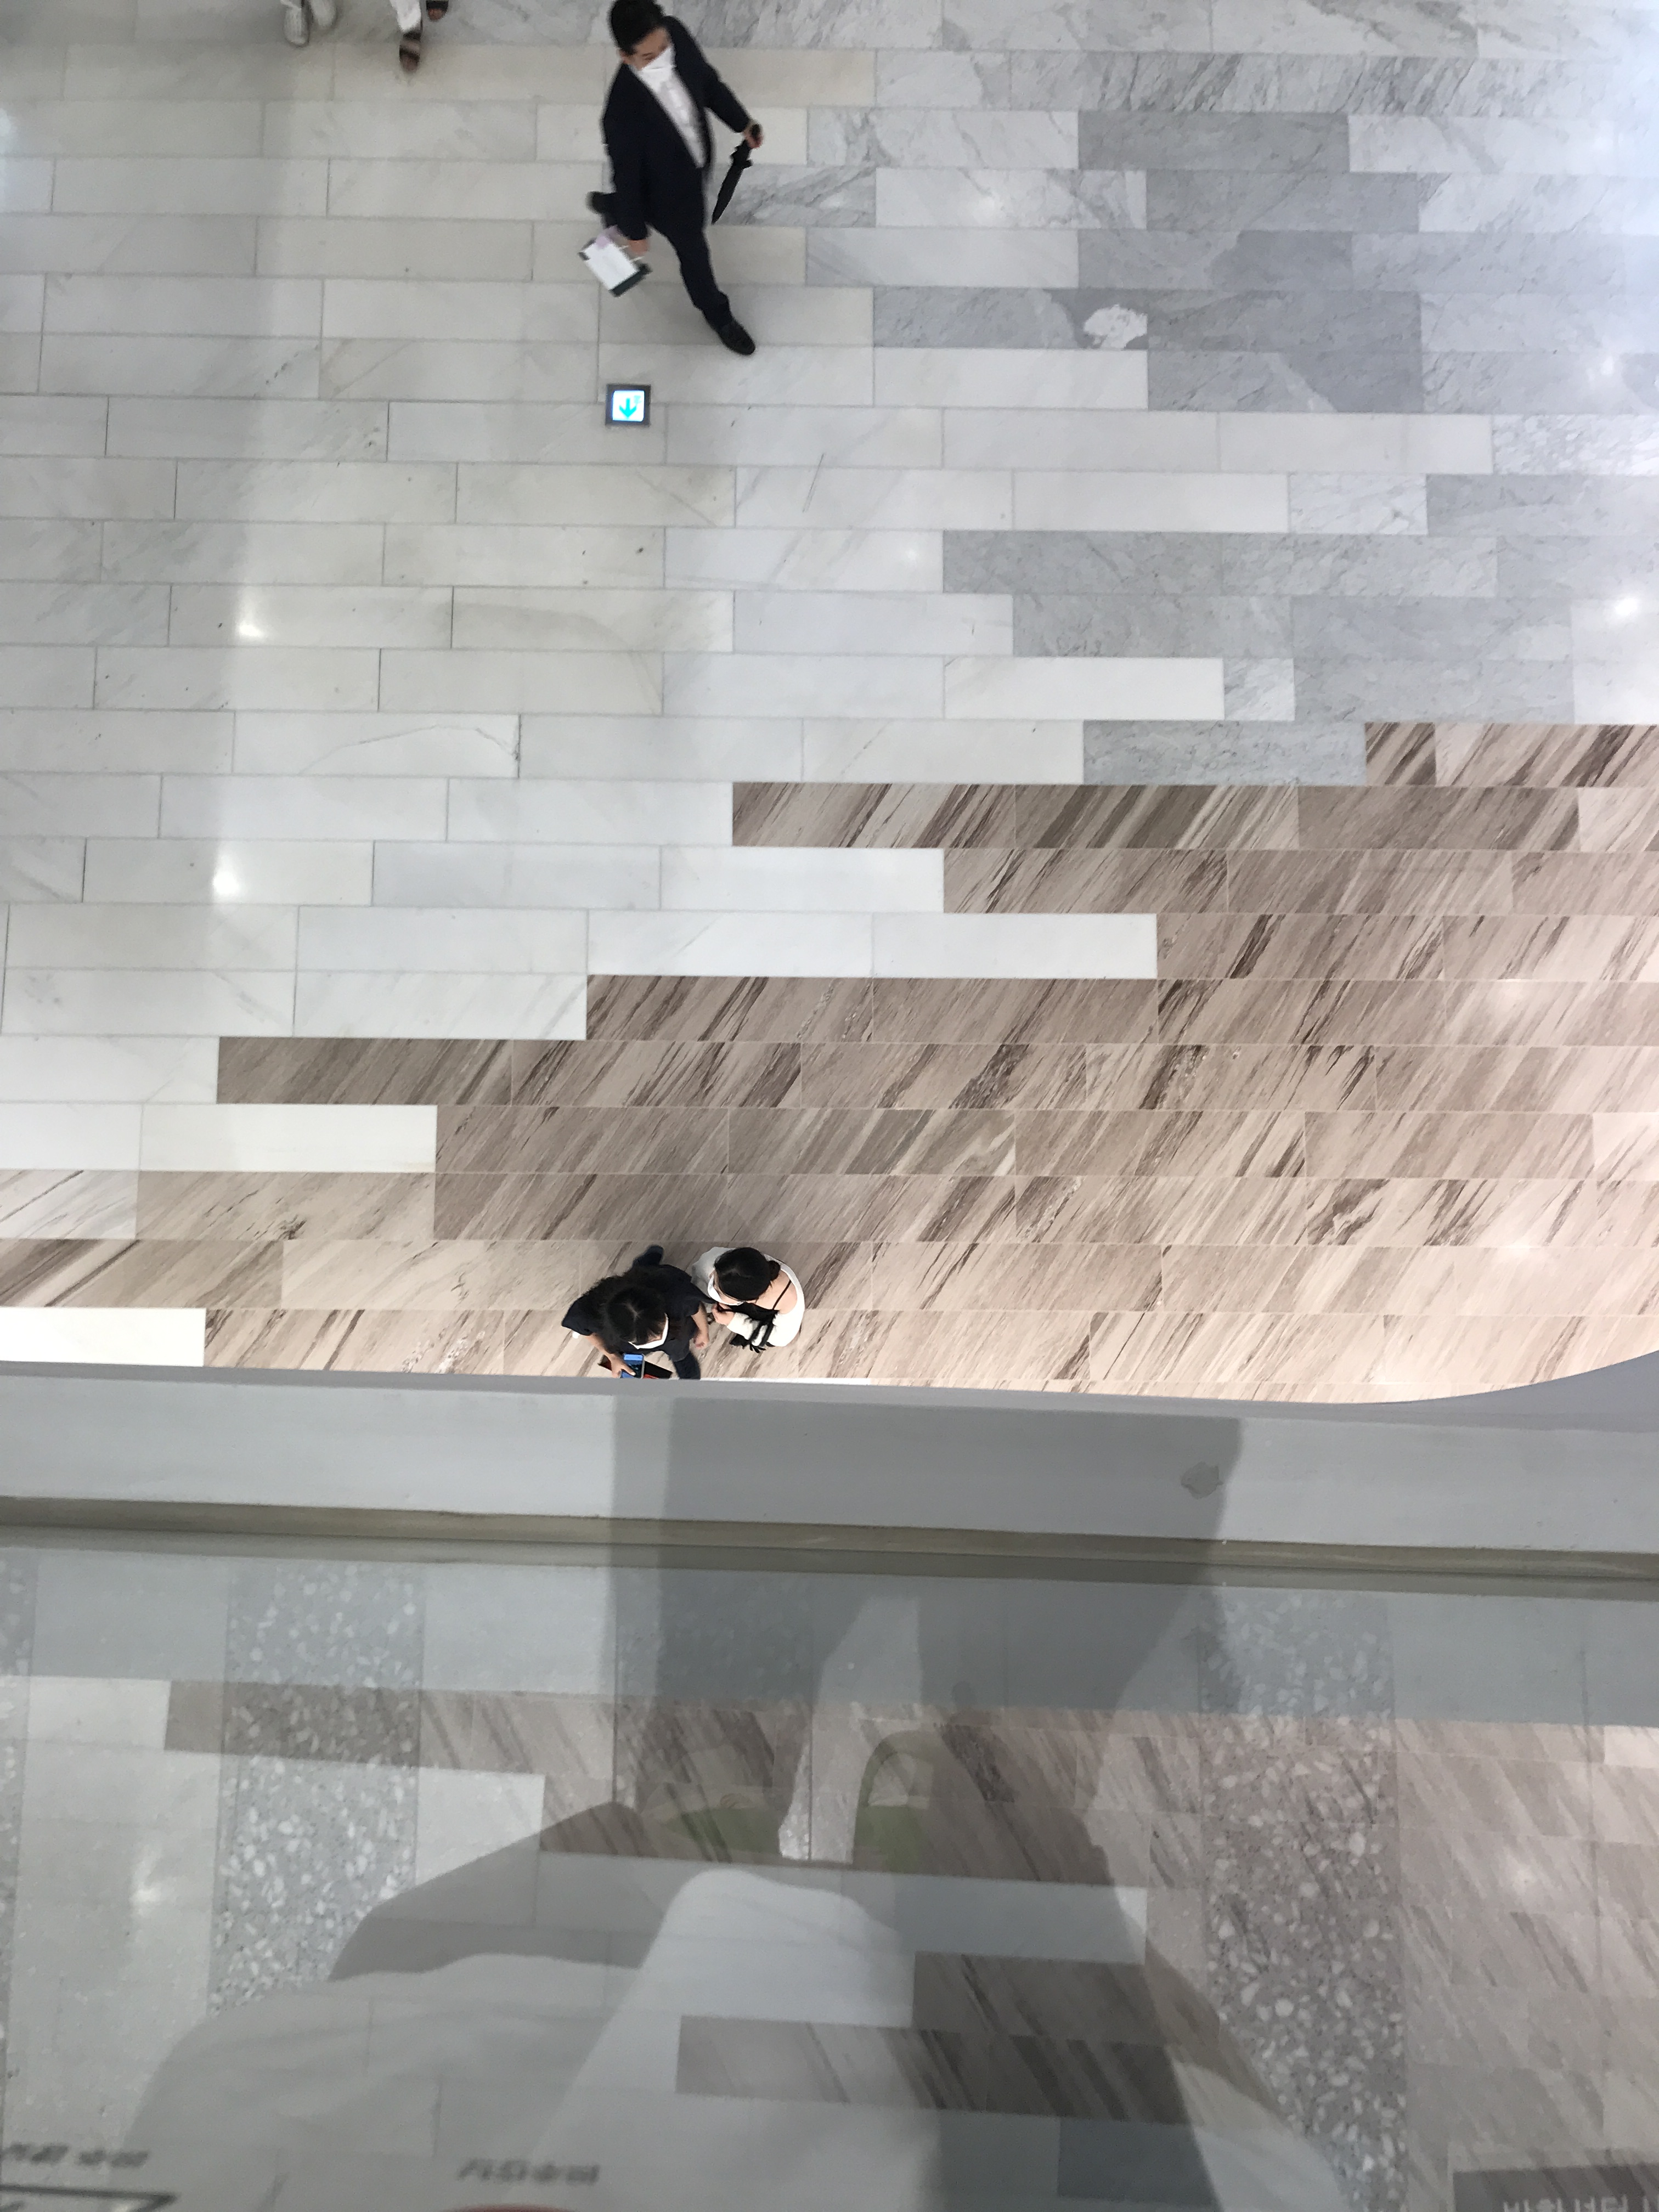person: (583, 1, 769, 368), (564, 1244, 704, 1394), (702, 1247, 809, 1358)
